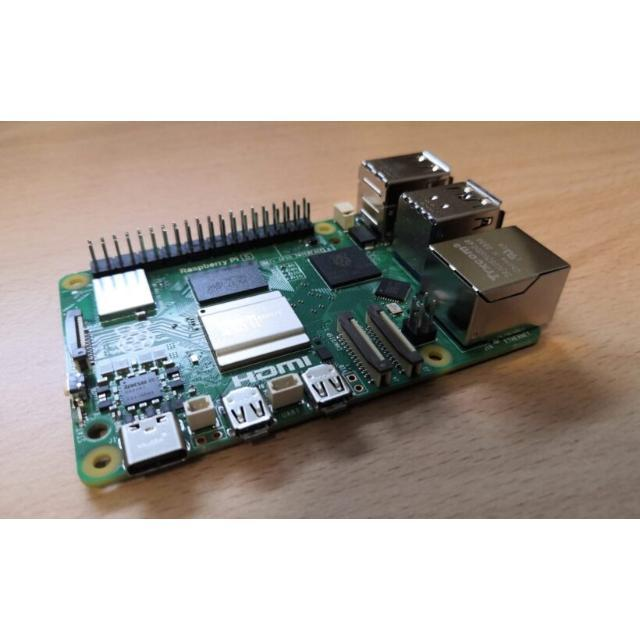Raspberry-Pi-5: (60, 153, 570, 486)
